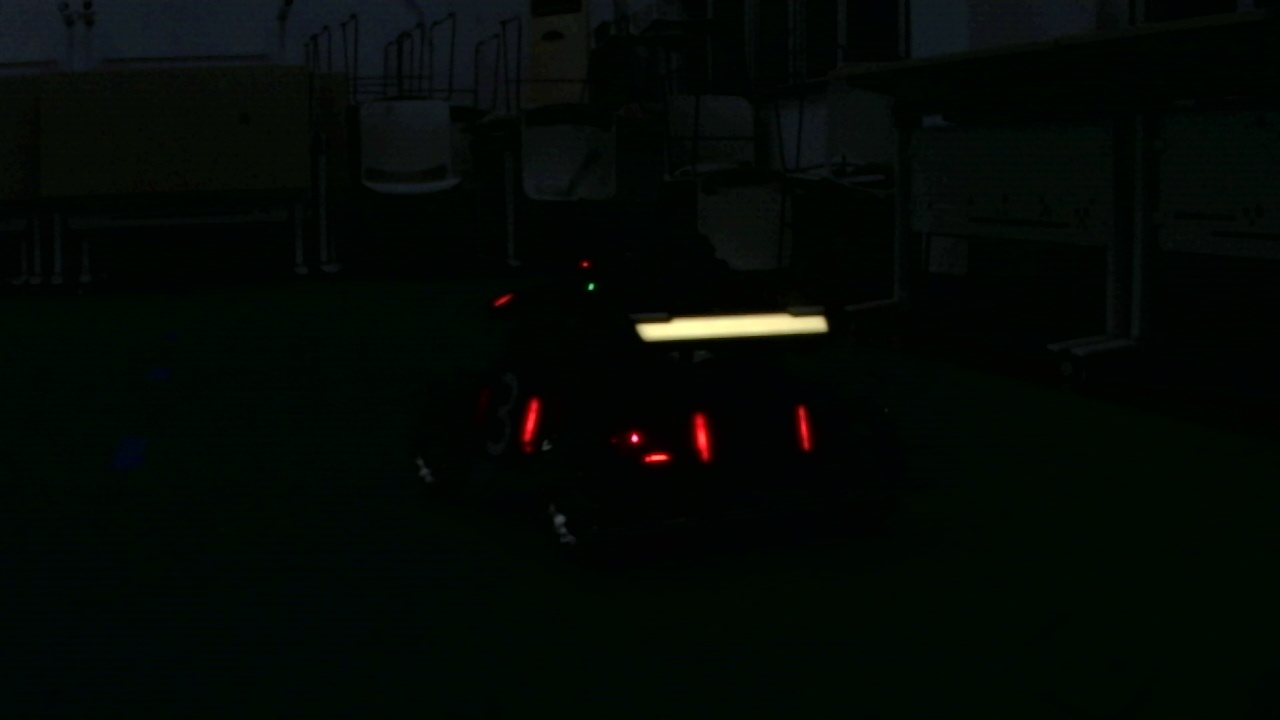lamp: (688, 399, 711, 459), (522, 388, 539, 447), (796, 400, 813, 458)
notpair1: (519, 390, 714, 463)
pair1: (692, 399, 812, 461)
